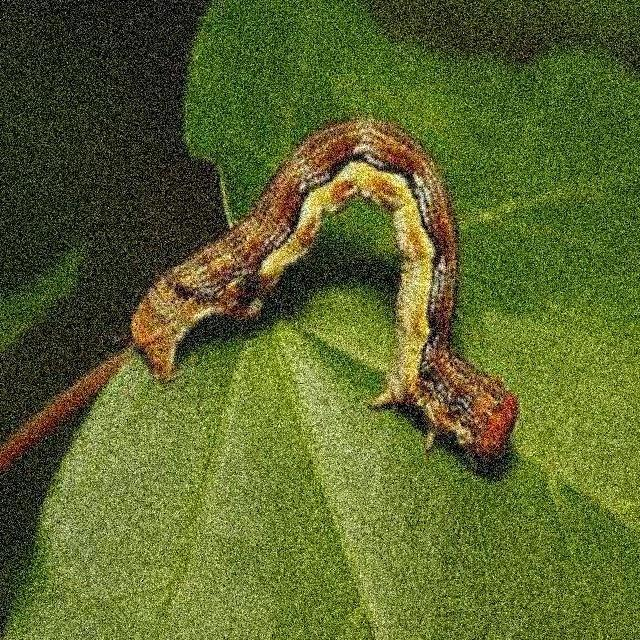gusano_cogollero: (132, 115, 520, 463)
